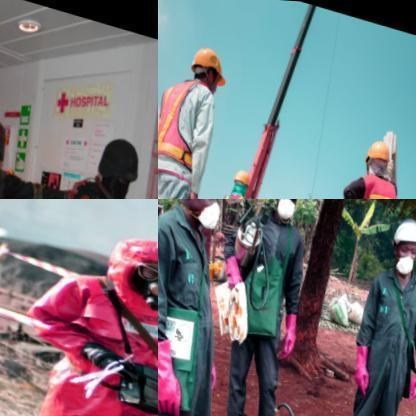vest: (0, 255, 157, 415), (158, 62, 221, 179), (339, 162, 412, 198), (206, 184, 252, 198)
